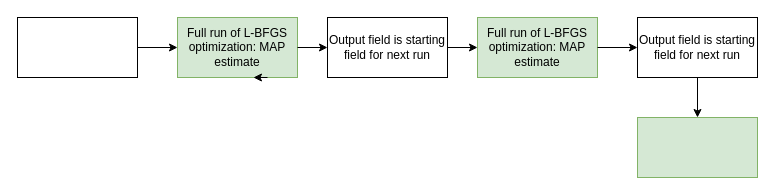
Image size: 775x195. Some labels were removed from this diagram. The shapes that lost their labels are listed below. From the top down, each one's box as (x1, y1, x2, y2) in pixels, then its label:
(16, 16, 138, 78): Initialize fields drawn from Gaussian normal field
(636, 116, 758, 178): Repeat until convergence criterion met
